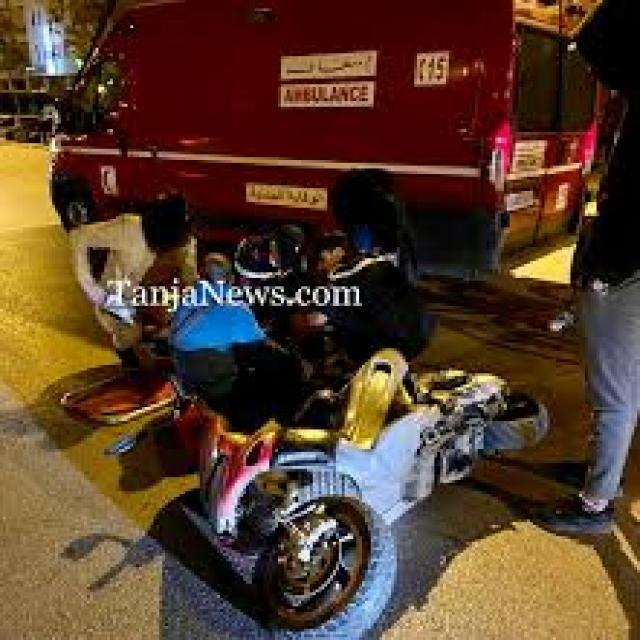ambulance: (47, 8, 590, 259)
